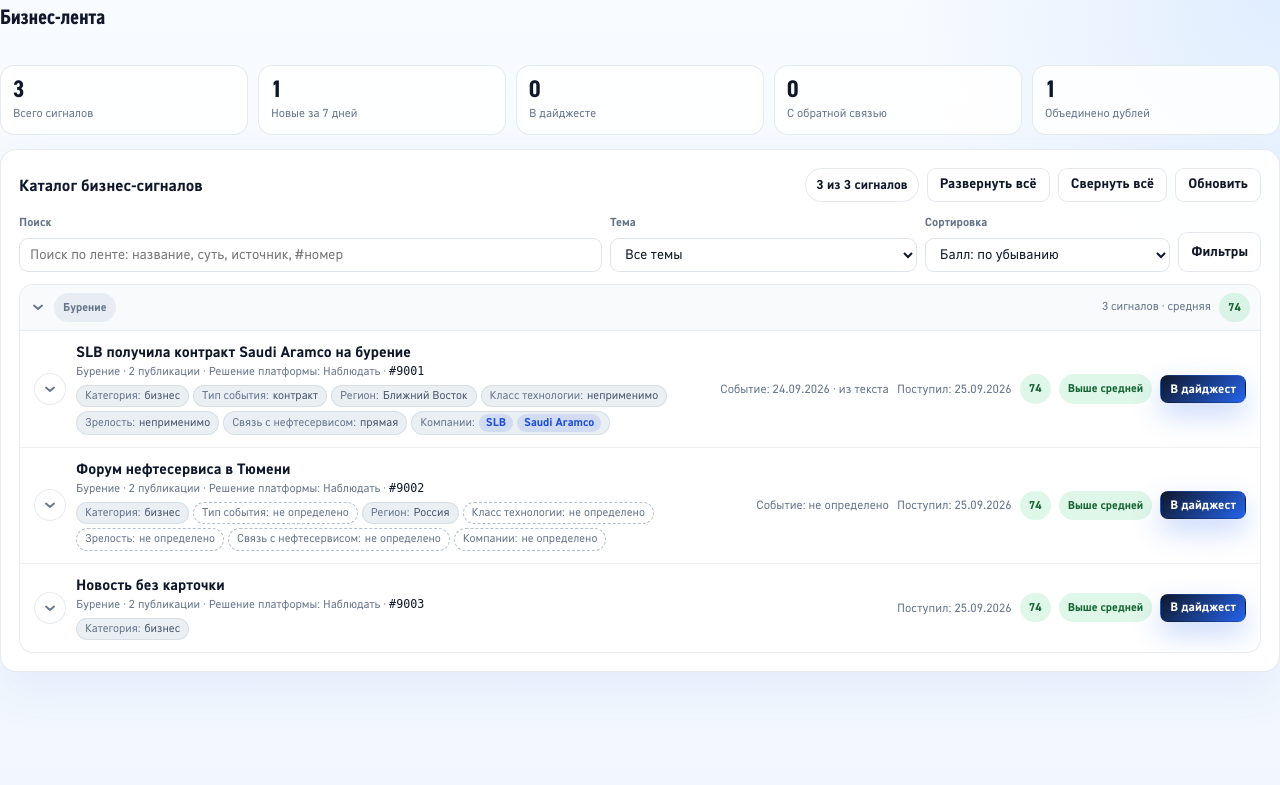
бизнес-лента › атрибуты — чипами; «не определено» — видимым пробелом, а не пропуском
Click the button named "Раскрыть сигнал" in the row of "9002".
click(50, 505)  # box x1=34 y1=489 x2=66 y2=521
(page scrolled)
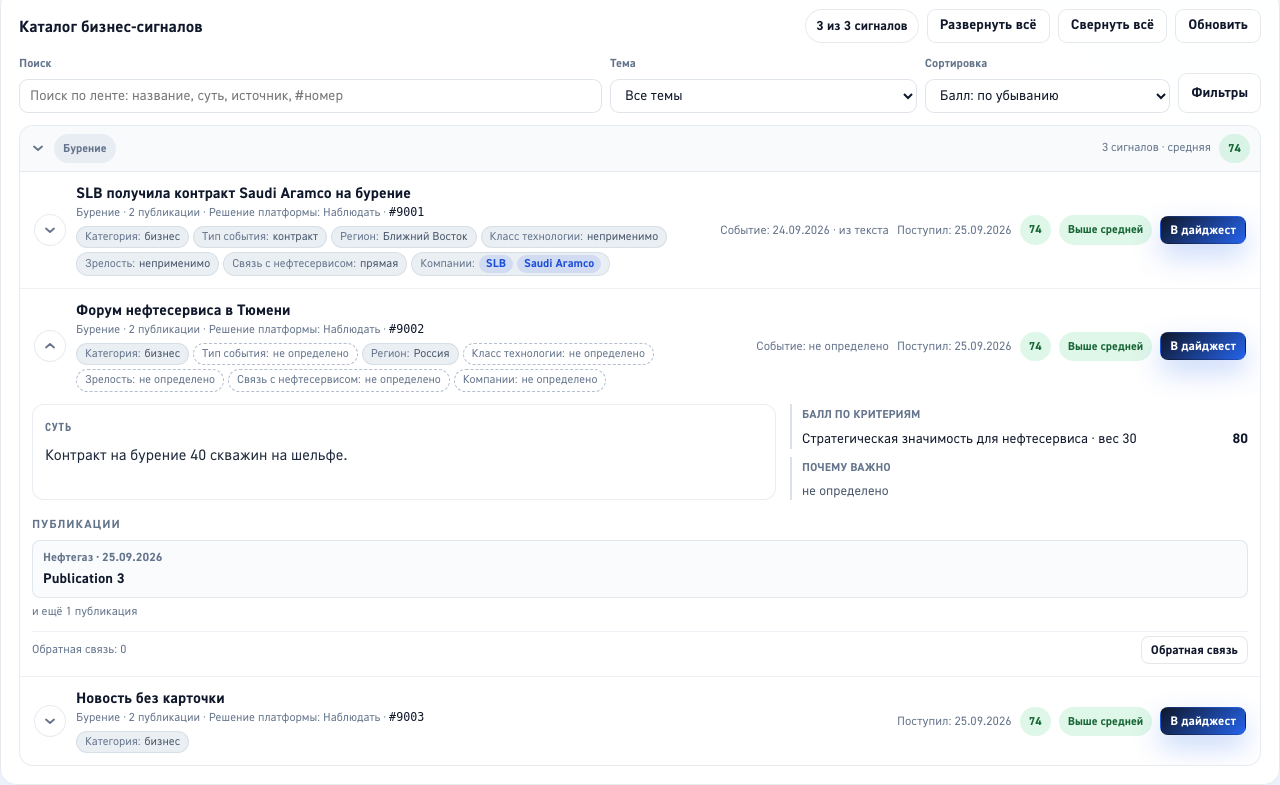
Click the button named "Раскрыть сигнал" next to "Новость без карточки".
click(50, 721)  # box x1=34 y1=705 x2=66 y2=737
(page scrolled)
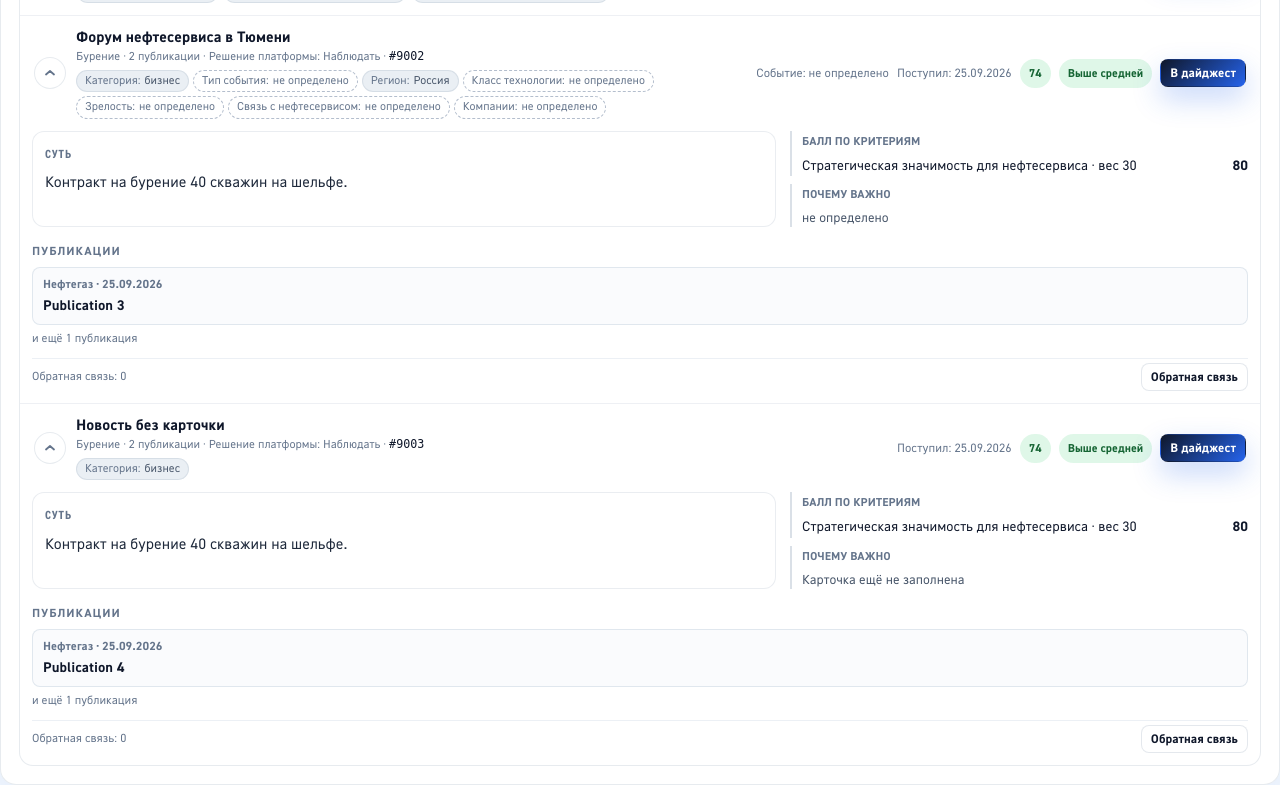
Now the text "не определено" is shown, box x1=802 y1=209 x2=889 y2=226
Now the text "Карточка ещё не заполнена" is shown, box x1=802 y1=571 x2=965 y2=588
